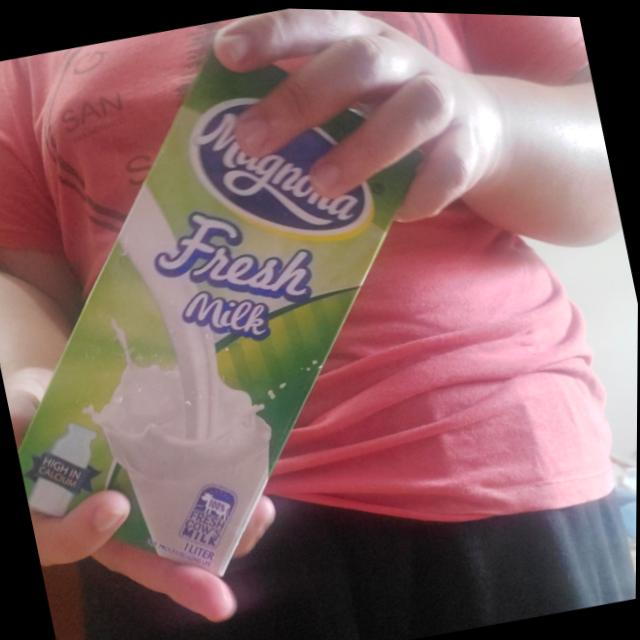milk: (0, 0, 499, 618)
